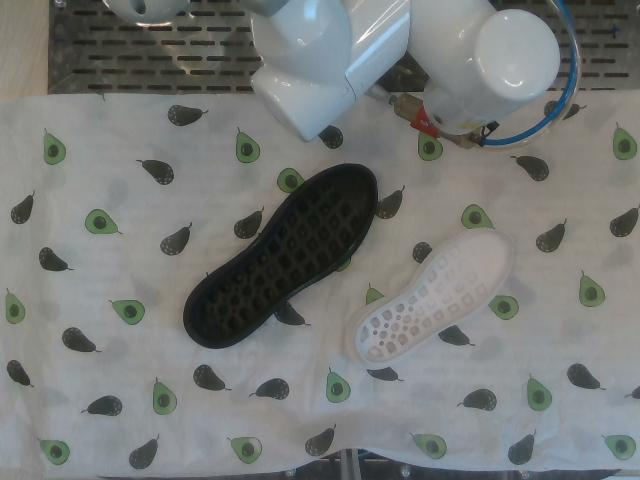shoes: (190, 166, 376, 341), (357, 230, 513, 363)
